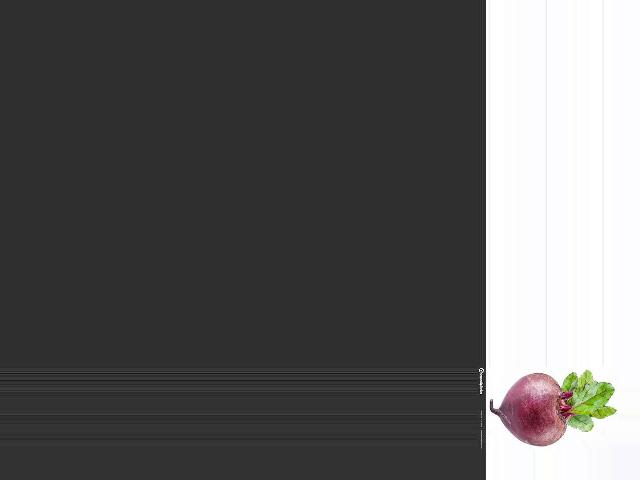beet: (490, 370, 616, 447)
